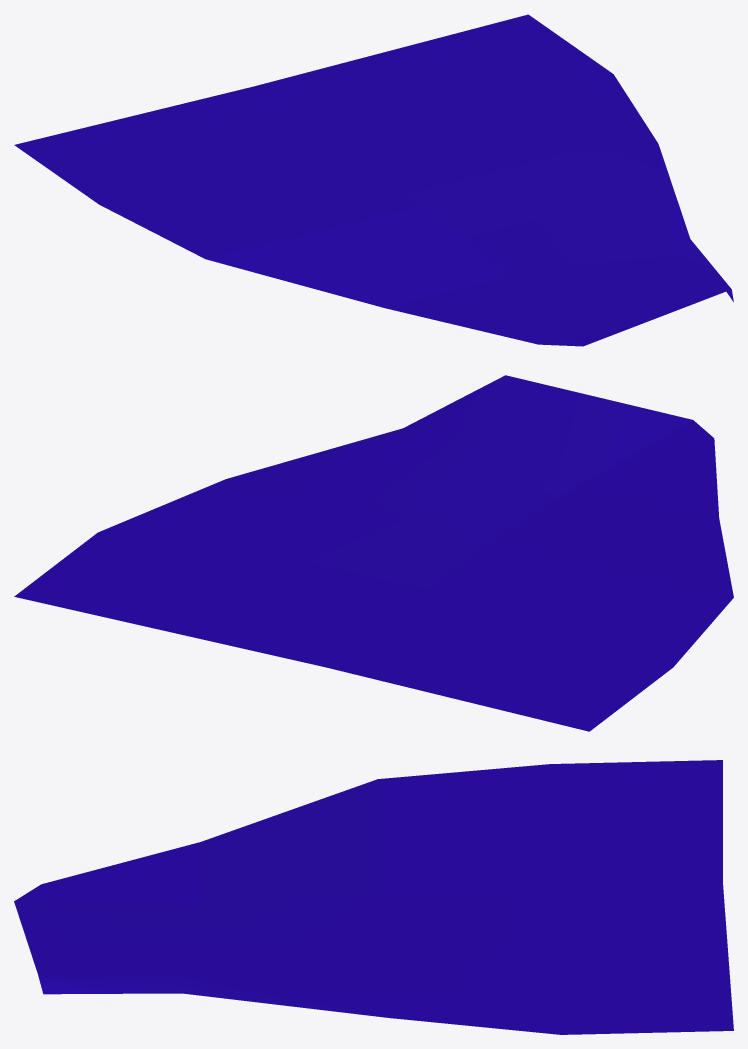
The model's file is water half.fbx.
3 renders of one model, top to bottom at view 1: azimuth 30°, elevation 25°; view 2: azimuth 150°, elevation 25°; view 3: azimuth 270°, elevation 25°, orthographic. The views are drawn at different scales.
Visible parts, largest first — view 1: polySurface13; view 2: polySurface13; view 3: polySurface13.
Part boxes in pixels (left/top/right/bottom): polySurface13: left=14, top=14, right=733, bottom=346; polySurface13: left=14, top=375, right=733, bottom=731; polySurface13: left=14, top=760, right=733, bottom=1034.
Size of the model in its own units: 1014 by 42.77 by 1130.
